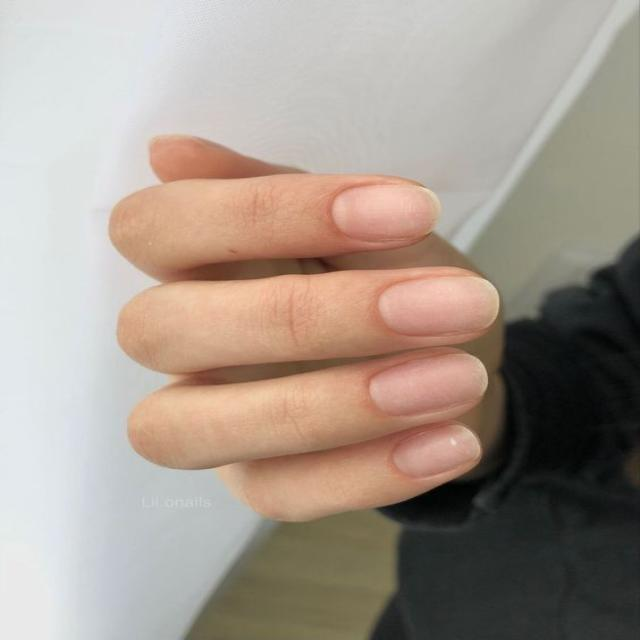Fingernail: (369, 354, 488, 416), (378, 276, 499, 336), (333, 185, 441, 242), (394, 425, 481, 477)
